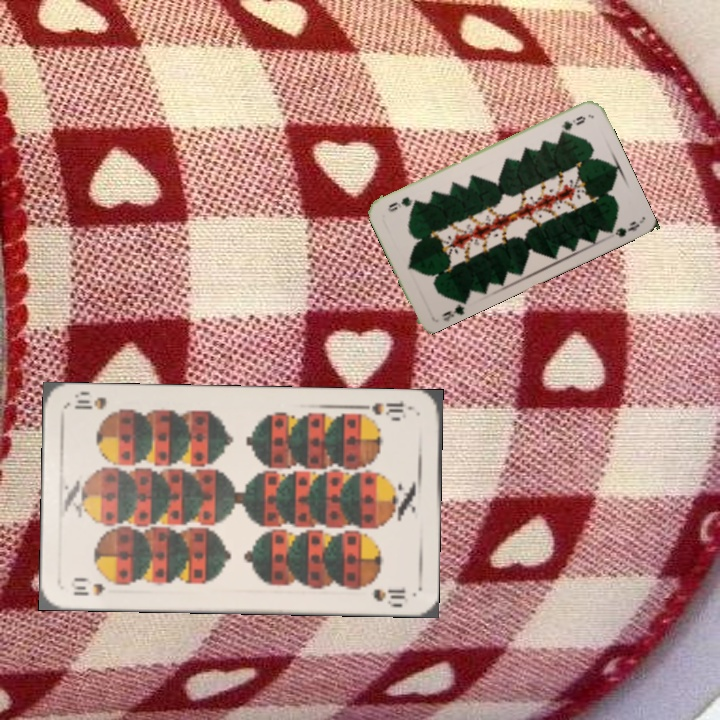G9: (438, 296, 469, 323), (556, 112, 588, 136)
S10: (67, 575, 123, 599), (357, 398, 406, 423)
